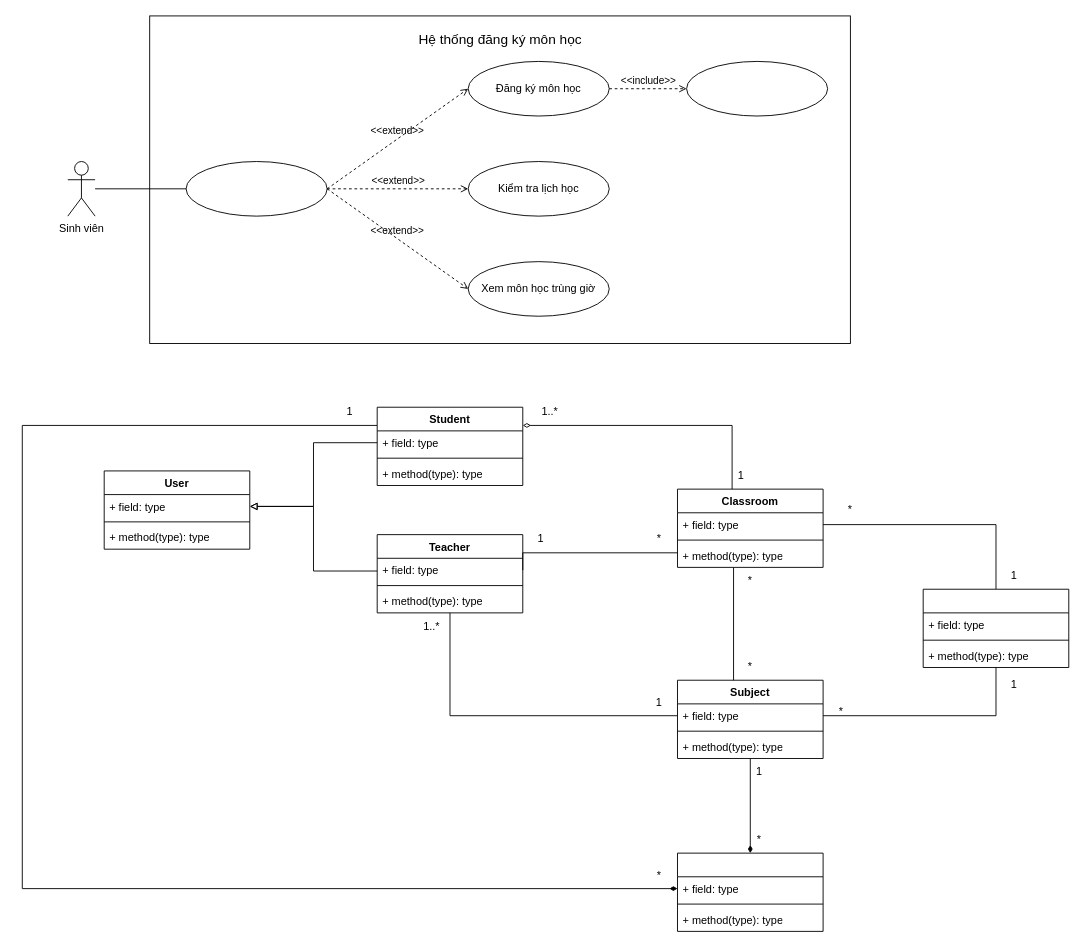
The diagram is 1085 pixels wide and 950 high, and some of its shapes have lost their labels. Each missing label, with the box of its shape:
EduSection: (922, 588, 1069, 667)
Registration: (677, 852, 823, 931)
Xác nhận đăng ký: (686, 61, 828, 116)
Đăng nhập: (185, 161, 327, 216)
